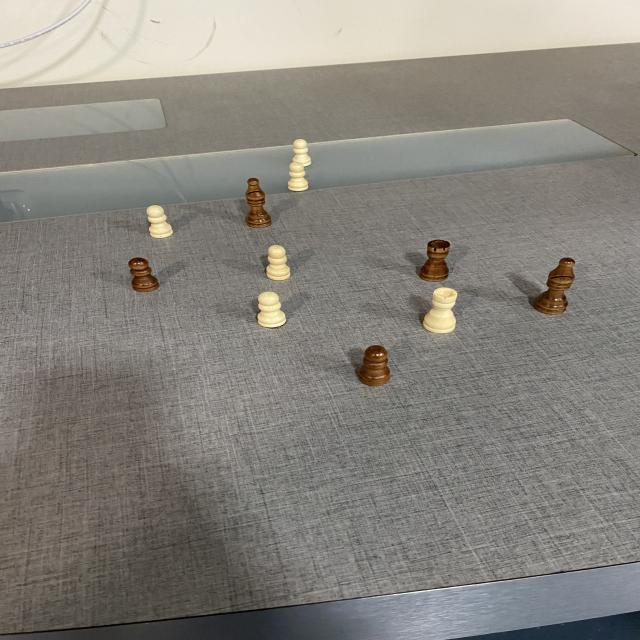Black-Bishop: (535, 257, 575, 314), (245, 178, 271, 228)
Black-Pawn: (359, 344, 390, 386), (131, 257, 159, 292)
Black-Rook: (420, 239, 450, 282)
White-Pawn: (258, 291, 285, 329), (265, 245, 291, 280), (147, 205, 173, 239), (289, 162, 309, 191), (291, 139, 311, 167)
White-Rook: (424, 288, 457, 332)
